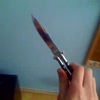knife: (31, 14, 72, 81)
